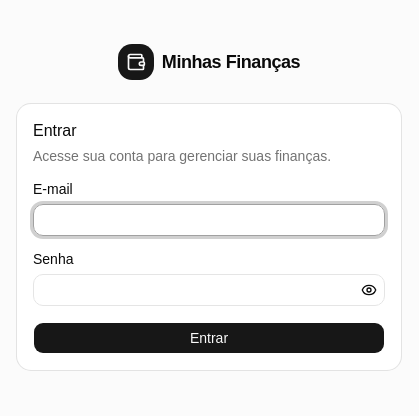
Test: Auth flow › validates required fields
Click the button "Entrar" at (209, 338), box [33, 322, 385, 354]
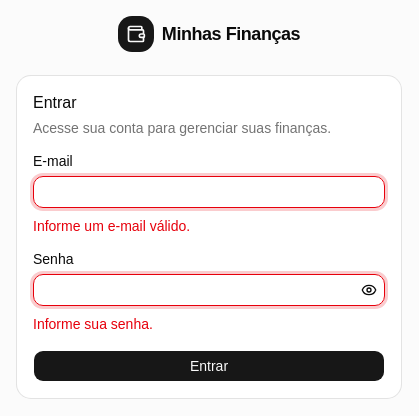
Expected: the text "Informe um e-mail válido." is shown, [33, 218, 190, 234]
Expected: the text "Informe sua senha." is shown, [33, 316, 153, 332]
